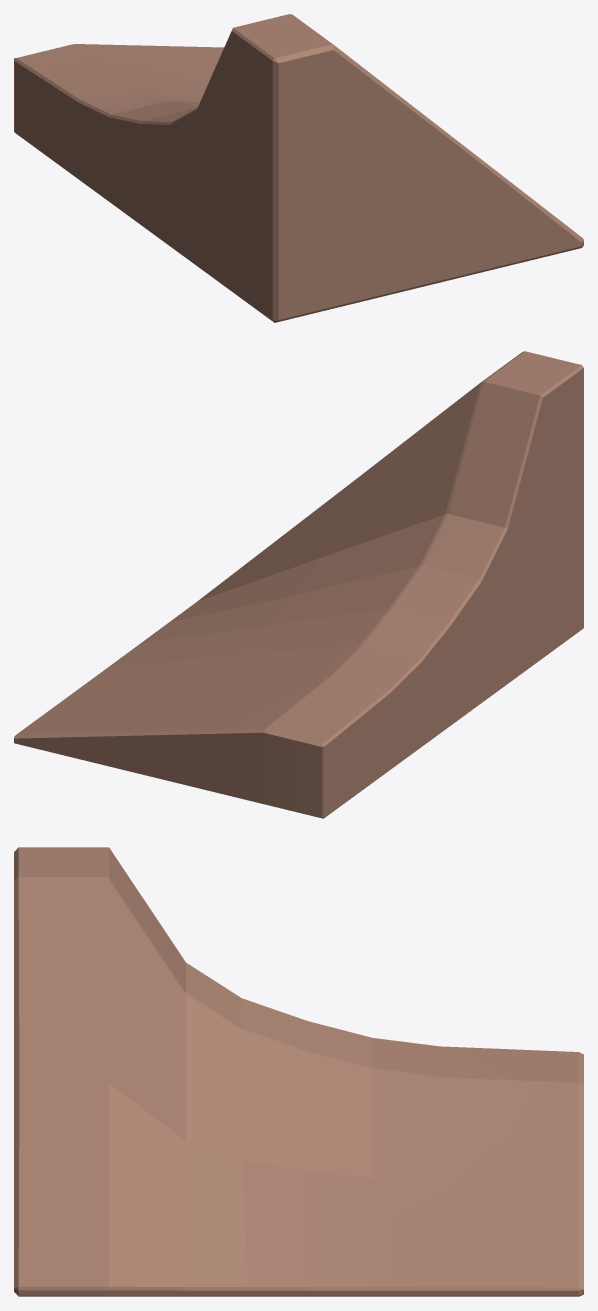
The model's file is mesh_rampEndLeftMod.fbx.
3 views of the same model, one above another, from view 1: azimuth 30°, elevation 25°; view 2: azimuth 150°, elevation 25°; view 3: azimuth 270°, elevation 25° (orthographic). The views are drawn at different scales.
Parts seen in each view (by area): view 1: mesh_rampEndLeftMod; view 2: mesh_rampEndLeftMod; view 3: mesh_rampEndLeftMod.
Part boxes in pixels (left/top/right/bottom): mesh_rampEndLeftMod: left=14, top=14, right=583, bottom=322; mesh_rampEndLeftMod: left=14, top=351, right=583, bottom=818; mesh_rampEndLeftMod: left=14, top=847, right=583, bottom=1296.
Size of the model in its own units: 10.26 by 8.33 by 15.
